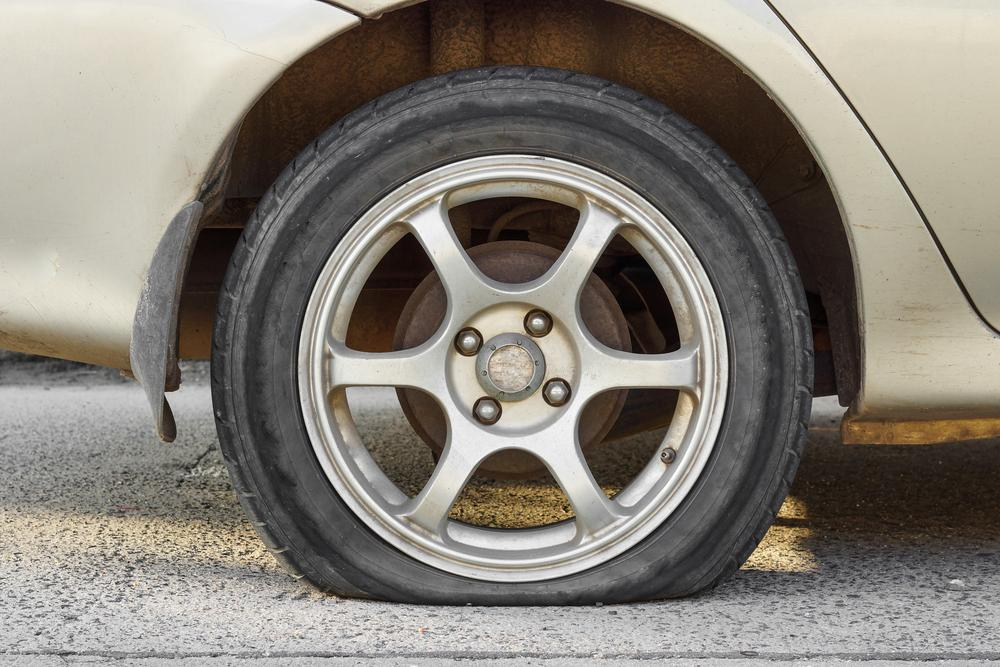tire flat: (213, 60, 811, 607)
